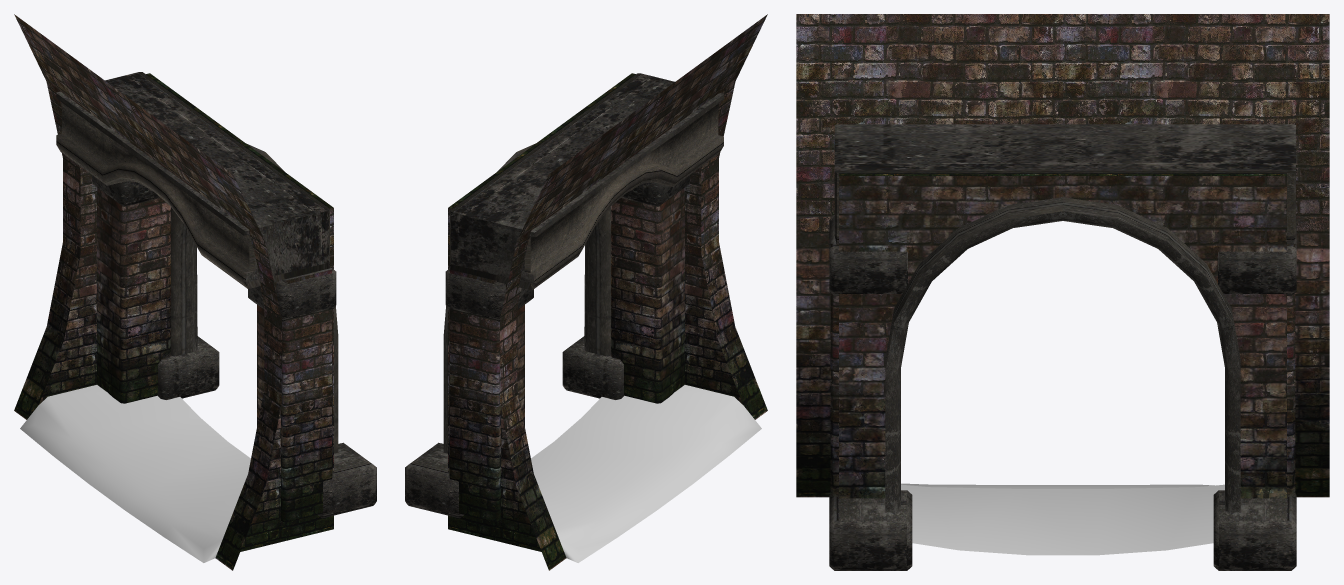
Rendered from TL_entrance_alt.DAE.
3 views of the same model, side by side, from view 1: azimuth 30°, elevation 25°; view 2: azimuth 150°, elevation 25°; view 3: azimuth 270°, elevation 25° (orthographic). The views are drawn at different scales.
Parts seen in each view (by area): view 1: tunnel_low_entrance, tunnel_low_arch_entrance, tunnel_low_entrance_floor; view 2: tunnel_low_entrance, tunnel_low_arch_entrance, tunnel_low_entrance_floor; view 3: tunnel_low_entrance, tunnel_low_arch_entrance, tunnel_low_entrance_floor.
Boxes of the visible parts, left/top/right/bottom form: tunnel_low_entrance: left=14, top=14, right=333, bottom=570; tunnel_low_arch_entrance: left=56, top=72, right=376, bottom=518; tunnel_low_entrance_floor: left=20, top=385, right=250, bottom=562; tunnel_low_entrance: left=448, top=14, right=767, bottom=570; tunnel_low_arch_entrance: left=405, top=73, right=723, bottom=518; tunnel_low_entrance_floor: left=531, top=385, right=761, bottom=562; tunnel_low_entrance: left=796, top=14, right=1329, bottom=498; tunnel_low_arch_entrance: left=829, top=124, right=1296, bottom=570; tunnel_low_entrance_floor: left=901, top=483, right=1224, bottom=555.
Size of the model in its own units: 1.86 by 4 by 4.02.
